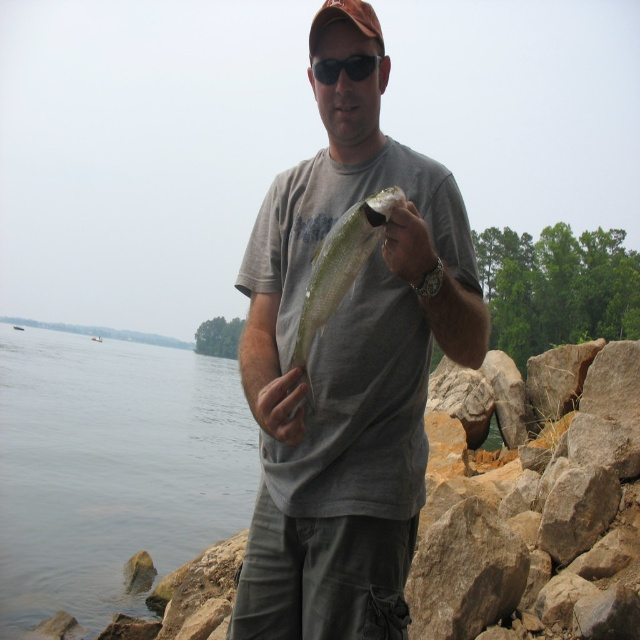Fish: (282, 184, 408, 415)
